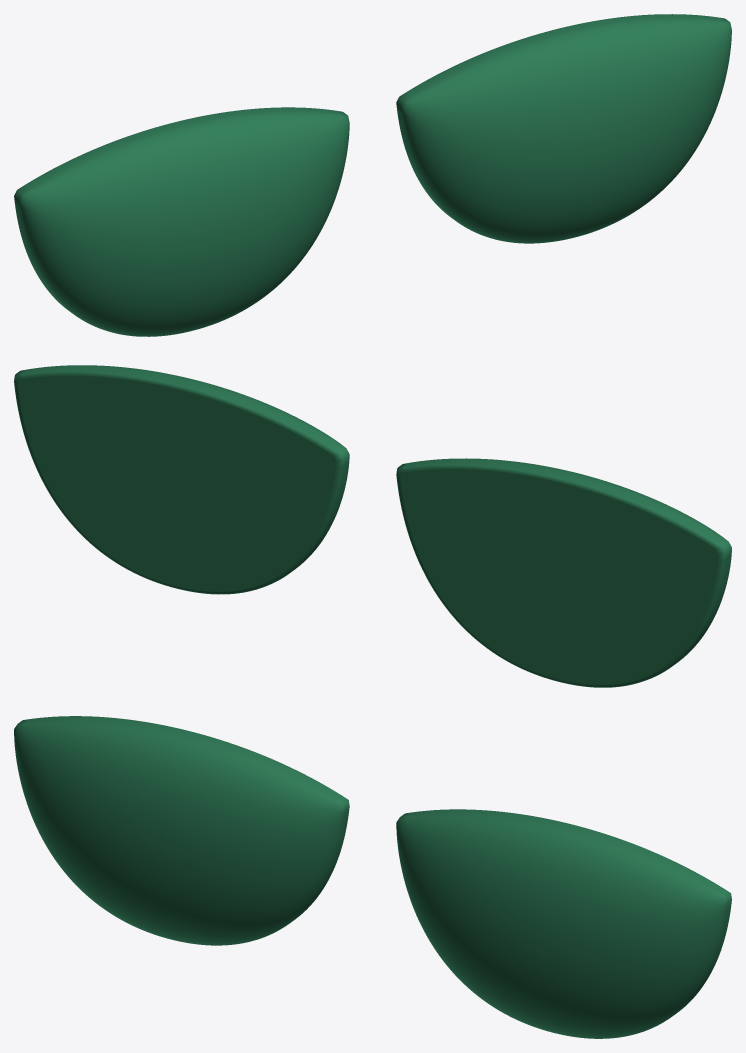
Rendered from matched-pair-v1.glb.
3 views of the same model, one above another, from view 1: azimuth 30°, elevation 25°; view 2: azimuth 150°, elevation 25°; view 3: azimuth 330°, elevation 25° (orthographic).
Visible parts, largest first — view 1: Wide-Shield Cabochon 13x22x4mm, Wide-Shield Cabochon 13x22x4mm.001; view 2: Wide-Shield Cabochon 13x22x4mm.001, Wide-Shield Cabochon 13x22x4mm; view 3: Wide-Shield Cabochon 13x22x4mm, Wide-Shield Cabochon 13x22x4mm.001.
Boxes of the visible parts, x1,y1,x2,y2 form: Wide-Shield Cabochon 13x22x4mm: [14, 107, 349, 336]; Wide-Shield Cabochon 13x22x4mm.001: [396, 14, 731, 243]; Wide-Shield Cabochon 13x22x4mm.001: [14, 365, 349, 594]; Wide-Shield Cabochon 13x22x4mm: [396, 458, 731, 687]; Wide-Shield Cabochon 13x22x4mm: [14, 716, 349, 945]; Wide-Shield Cabochon 13x22x4mm.001: [396, 809, 731, 1038].
Size of the model in its own units: 0.0474 by 0.013 by 0.00398.
